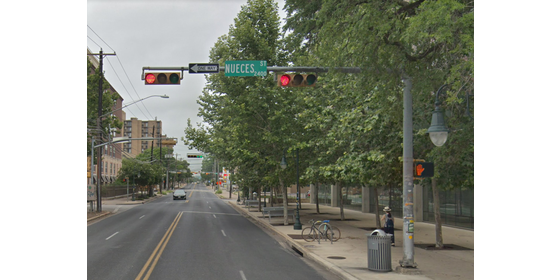one way arrow sign: (185, 63, 219, 73)
street name sign: (222, 59, 270, 80)
